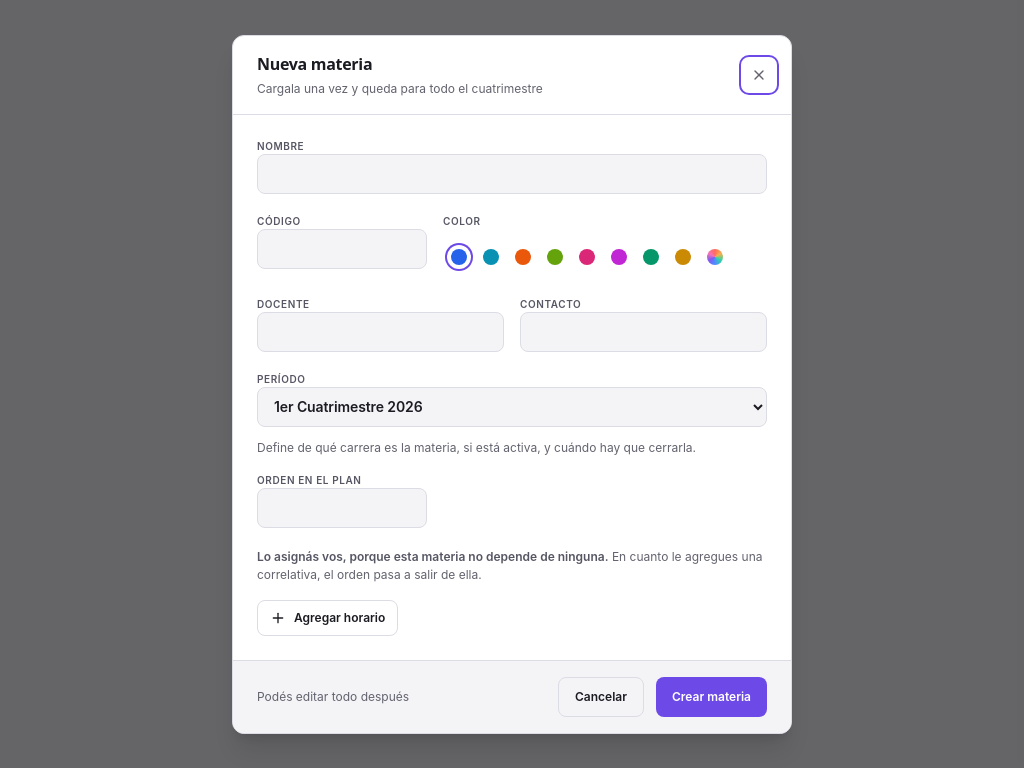
Test case: NuevaMateriaModal › unsaved changes › gives the typing back on "Seguir editando"
This screenshot has width=1024, height=768.
Type "Algoritmos" into the field labelled "NOMBRE" at [512, 174], box [257,154,767,194]
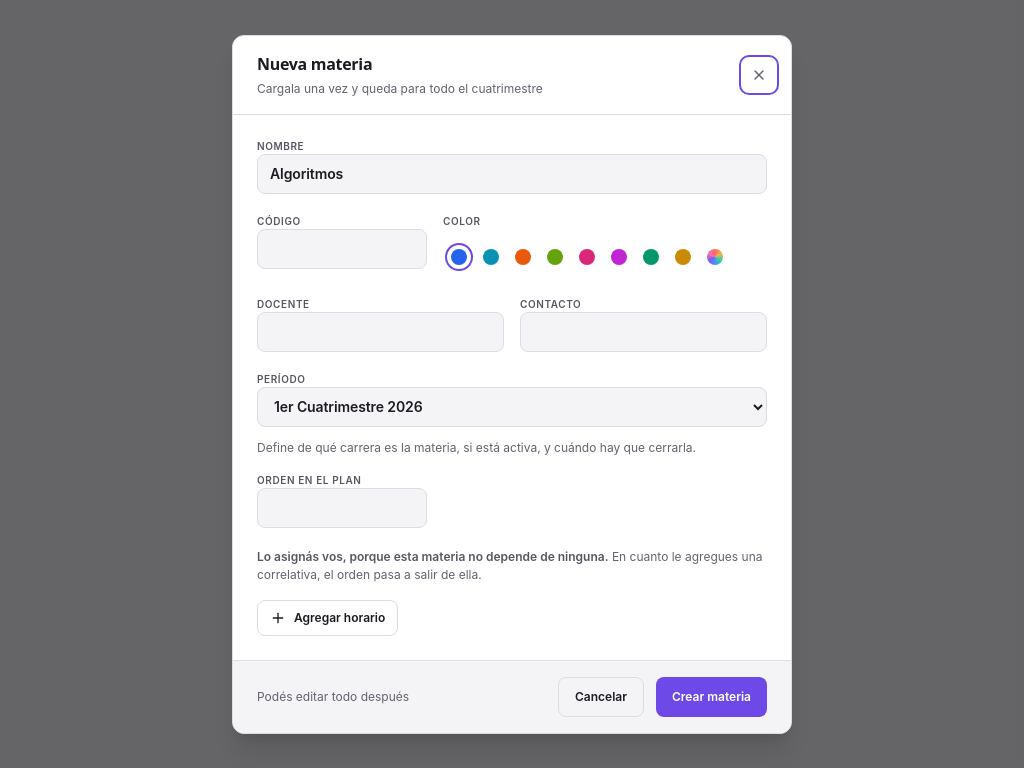
Click the button "Cancelar" at [601, 696], box [558,676,644,716]
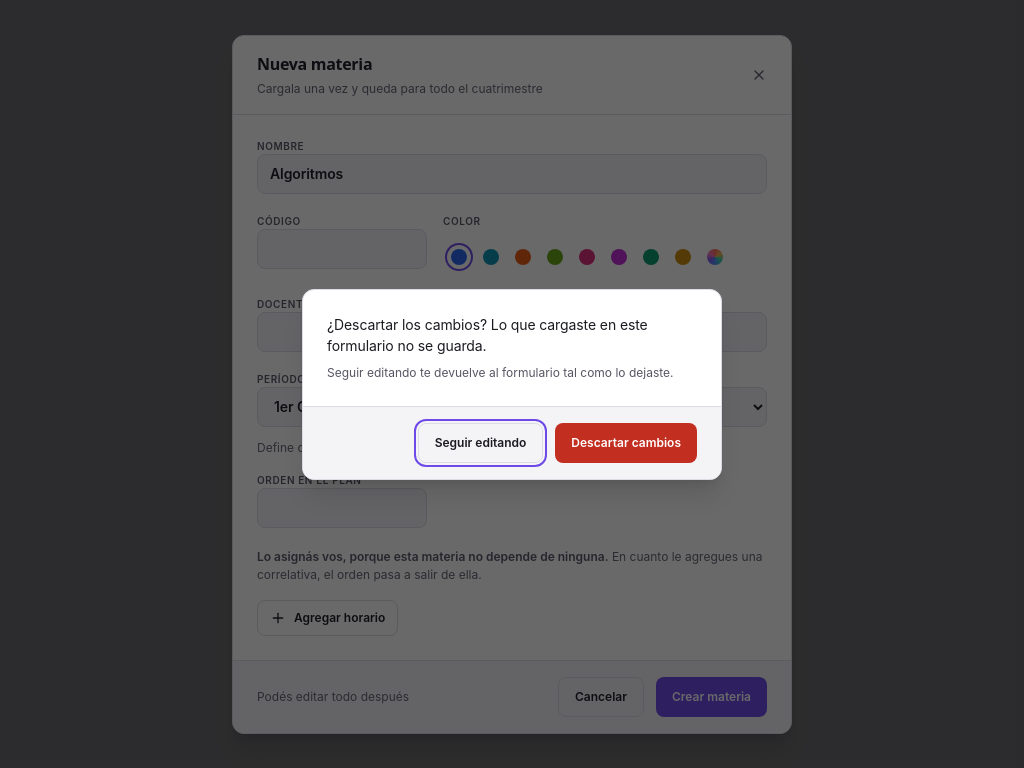
Click the button "Seguir editando" at [480, 442], box [418,422,543,462]
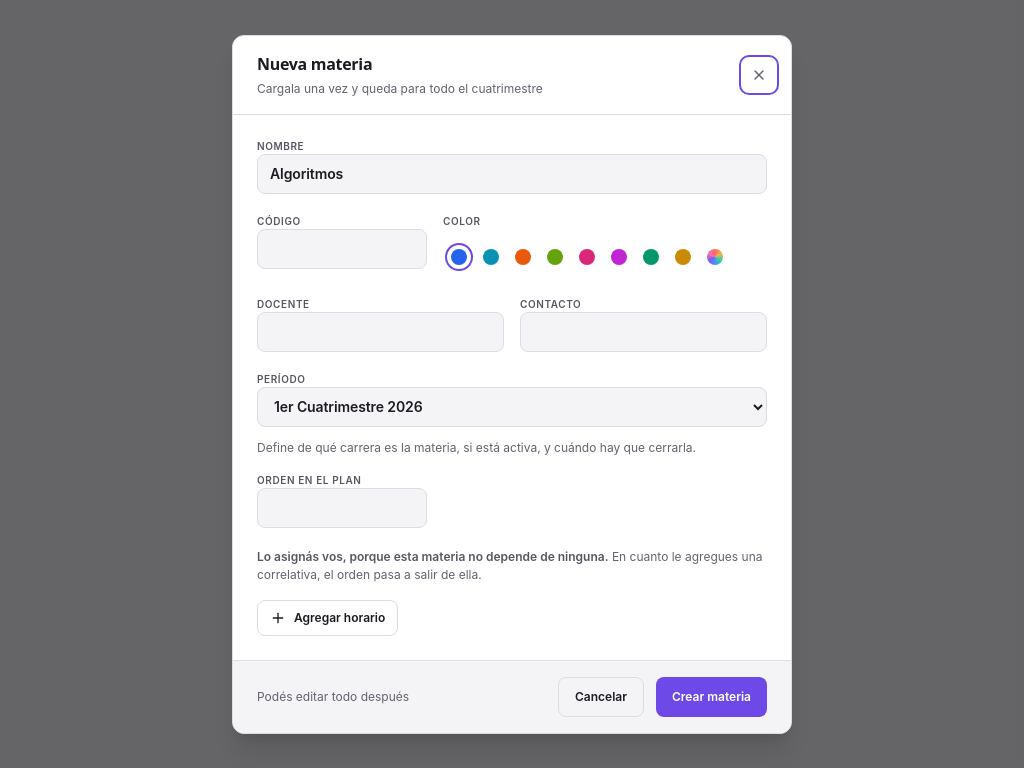
Expected: the button "Descartar cambios" is gone
